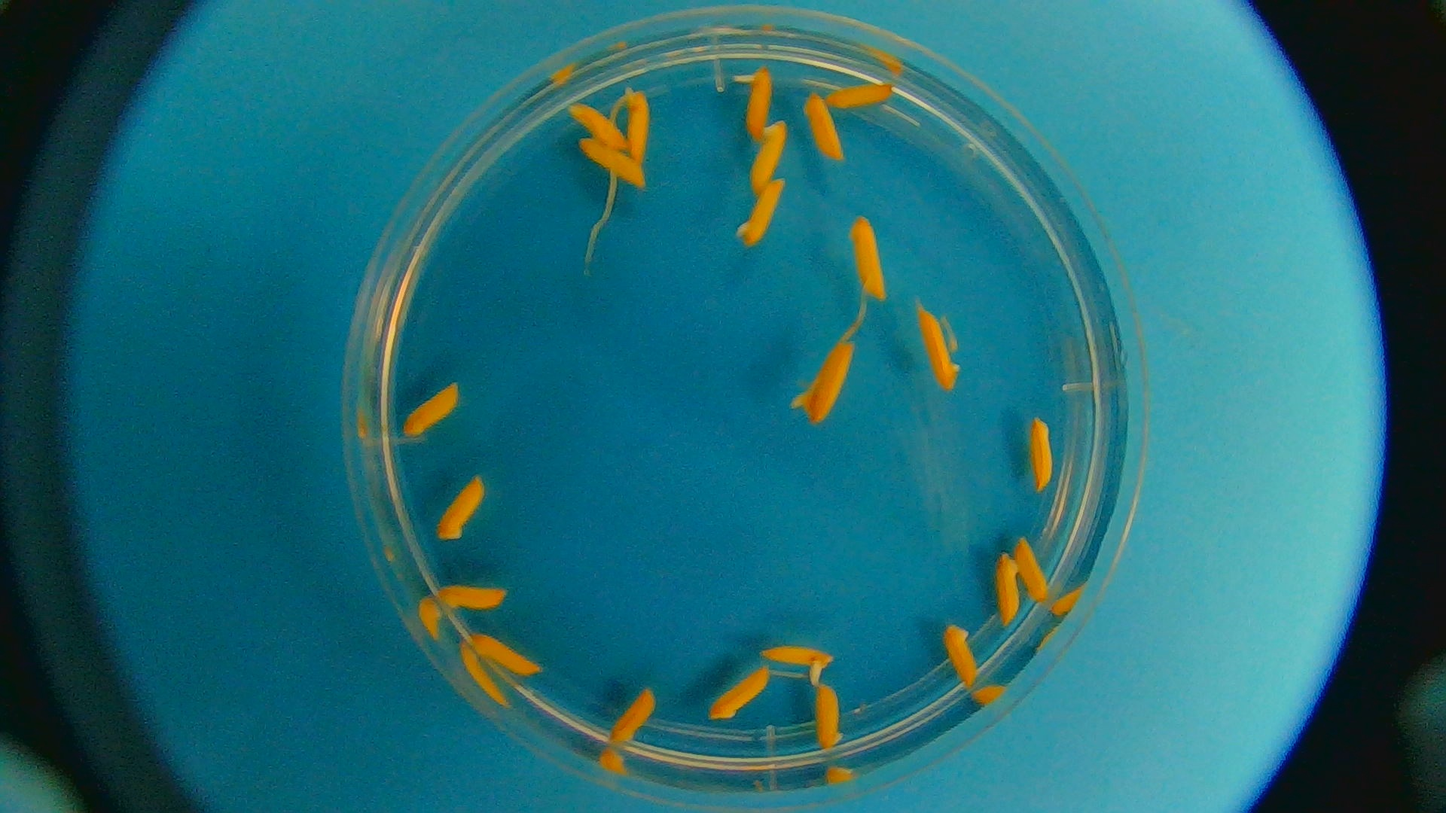no: (912, 306, 964, 391), (848, 212, 889, 303), (1011, 533, 1061, 607), (734, 178, 786, 249), (401, 383, 462, 438), (709, 665, 770, 719), (579, 137, 643, 188), (437, 474, 483, 544), (568, 103, 627, 152), (801, 93, 844, 160), (608, 687, 657, 744), (746, 121, 786, 190), (942, 621, 981, 690), (471, 632, 536, 673), (438, 582, 504, 612), (1029, 416, 1055, 491), (996, 553, 1022, 621), (826, 82, 889, 110), (813, 686, 840, 750)
yes: (801, 344, 856, 421), (764, 644, 834, 688), (614, 90, 651, 166), (732, 66, 771, 136)
